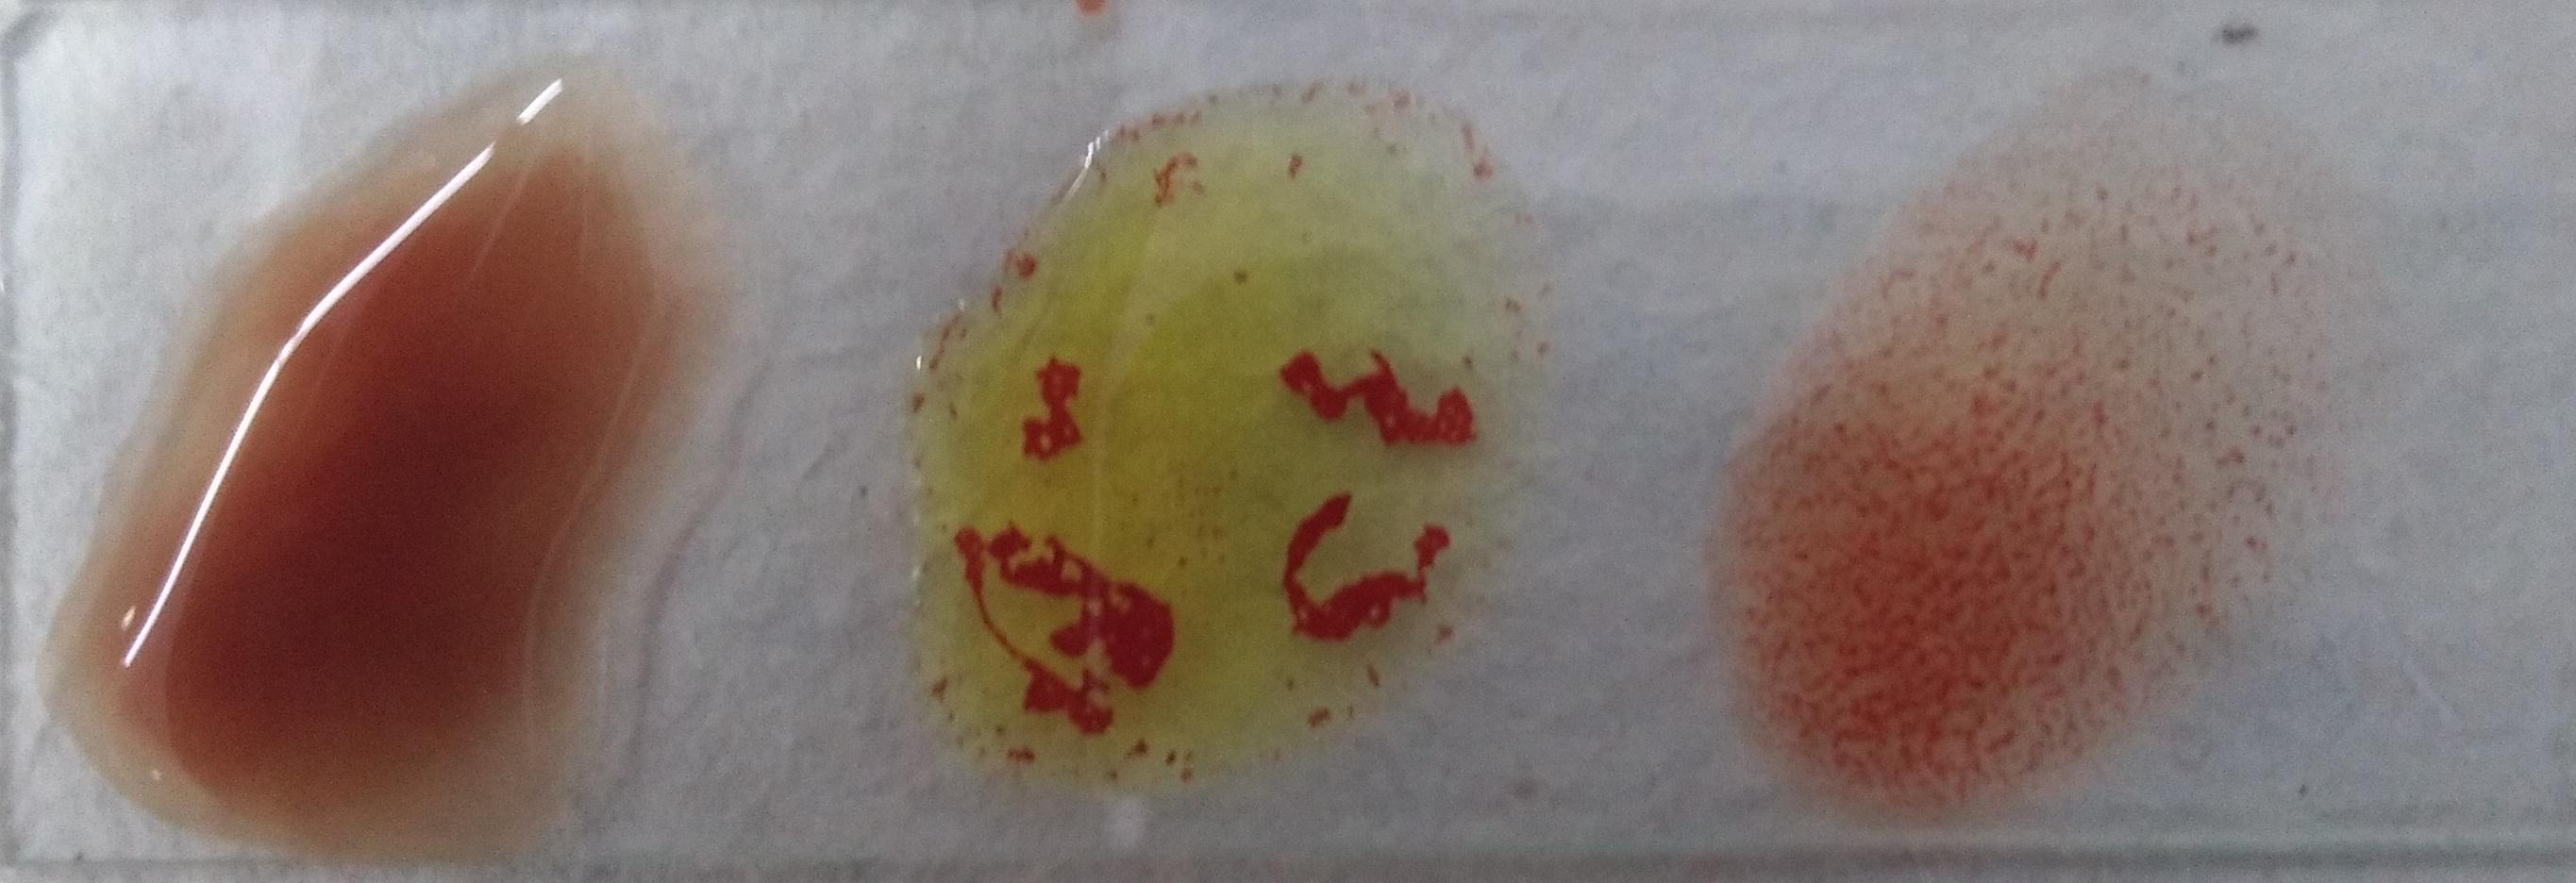B: (925, 98, 1521, 798)
D: (1730, 113, 2284, 809)
